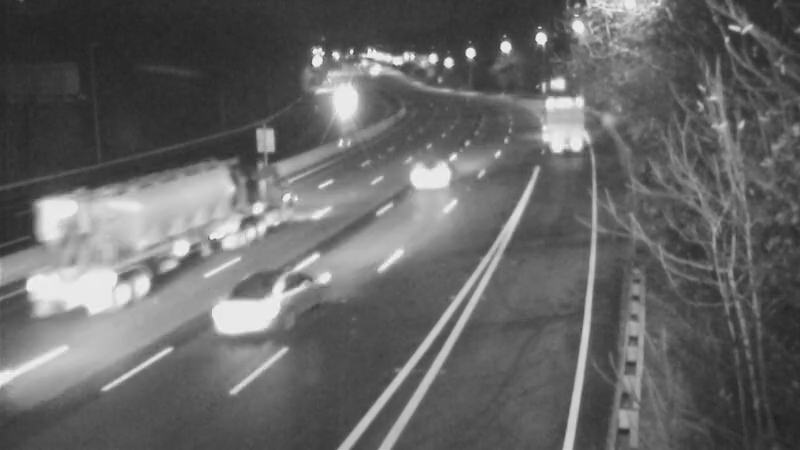vehicle: (396, 127, 476, 207), (159, 164, 239, 244), (220, 257, 300, 337), (533, 93, 583, 143), (317, 83, 367, 133)
